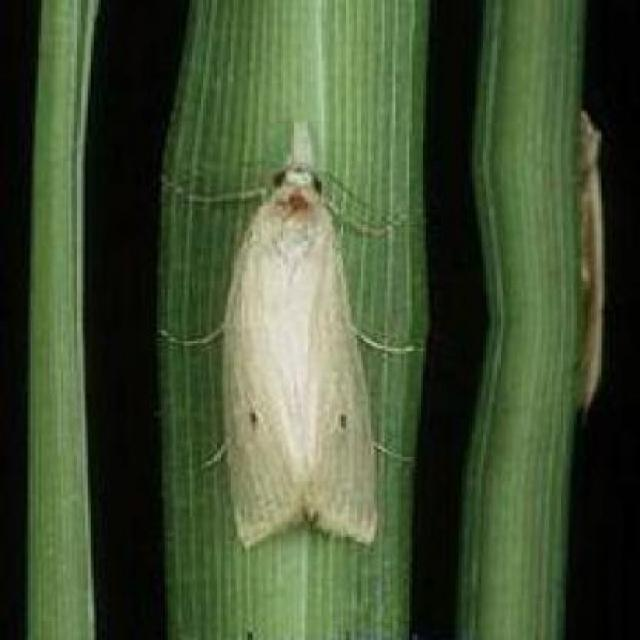stem-borer: (171, 117, 406, 551)
